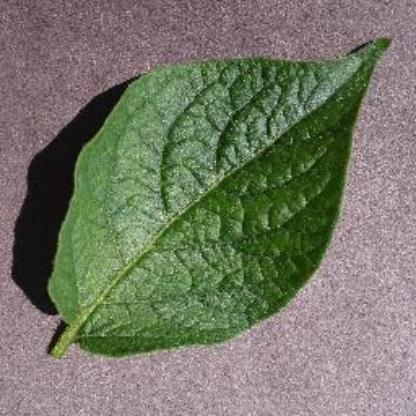Healthy-plant: (42, 32, 396, 362)
